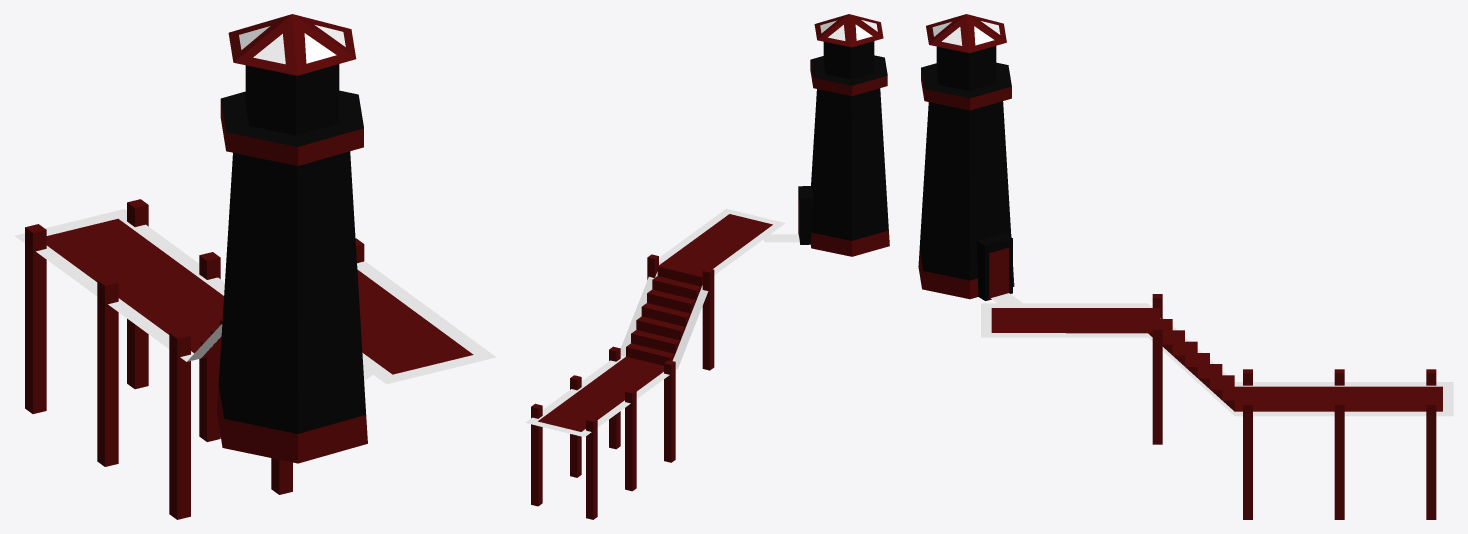
The model's file is FBX_LighthouseOne_R.fbx.
The picture shows the model from 3 angles, left to right: view 1: azimuth 30°, elevation 25°; view 2: azimuth 150°, elevation 25°; view 3: azimuth 270°, elevation 25°; orthographic projection. The views are drawn at different scales.
Parts seen in each view (by area): view 1: LighthouseOne_R; view 2: LighthouseOne_R; view 3: LighthouseOne_R.
Part boxes in pixels (x1=…): LighthouseOne_R: x1=14, y1=14, x2=496, y2=519; LighthouseOne_R: x1=525, y1=14, x2=889, y2=519; LighthouseOne_R: x1=918, y1=14, x2=1453, y2=519.
Bounding box in the file's own units: 320 × 724 × 801.
